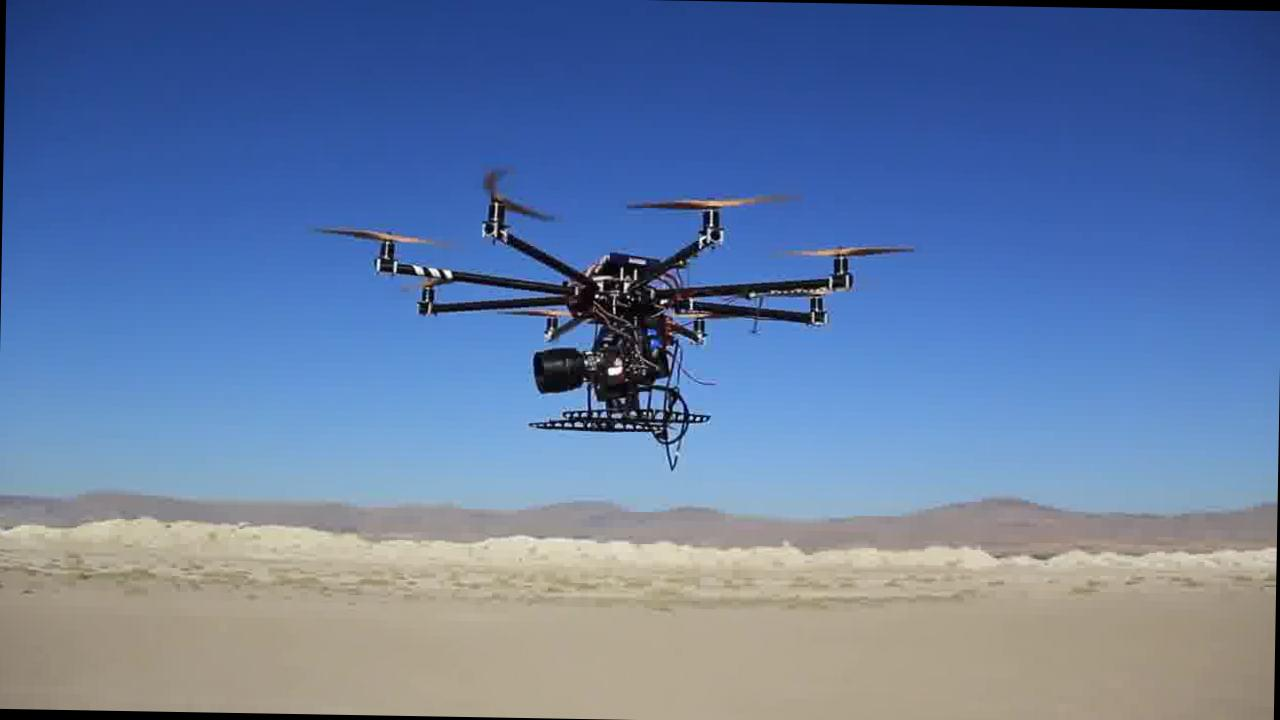drone: (352, 161, 866, 446)
